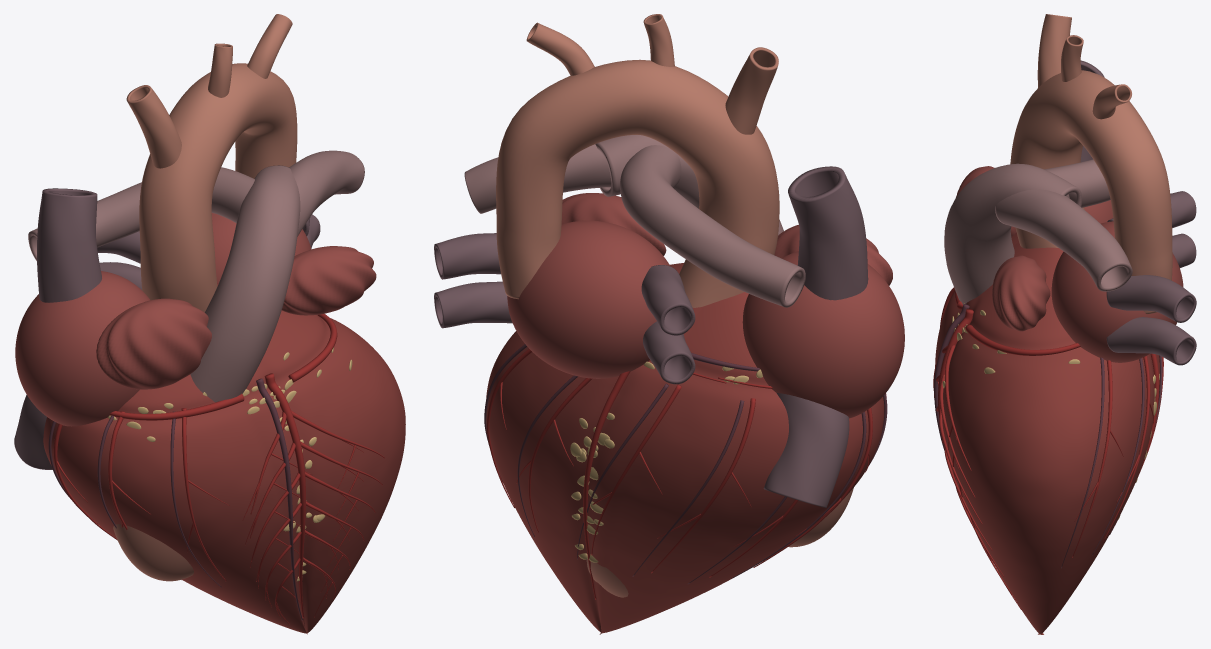
The model's file is heart-detail-raw.glb.
3 renders of one model, left to right at view 1: azimuth 30°, elevation 25°; view 2: azimuth 150°, elevation 25°; view 3: azimuth 270°, elevation 25°, orthographic. The views are drawn at different scales.
Parts seen in each view (by area): view 1: Ventricular_epicardium, aorta, pulmonary_trunk, Right_atrium, Right_auricular_appendage, superior_vena_cava, Left_auricular_appendage, right_pulmonary_artery, left_pulmonary_artery, brachiocephalic, Endocardium_right_ventricle, inferior_vena_cava (+10 smaller); view 2: Ventricular_epicardium, aorta, Left_atrium, Right_atrium, right_pulmonary_artery, superior_vena_cava, inferior_vena_cava, left_pulmonary_artery, pulmonary_vein_1_0, brachiocephalic, pulmonary_vein_-1_1, pulmonary_vein_1_1 (+11 smaller); view 3: Ventricular_epicardium, aorta, pulmonary_trunk, left_pulmonary_artery, Left_atrium, Left_auricular_appendage, pulmonary_vein_1_0, pulmonary_vein_1_1, brachiocephalic, right_pulmonary_artery, left_subclavian, left_common_carotid (+13 smaller).
Part boxes in pixels (box(x1,y1,x2,y2)): Ventricular_epicardium: box(43, 283, 405, 634); aorta: box(139, 63, 297, 312); pulmonary_trunk: box(190, 165, 300, 402); Right_atrium: box(15, 271, 150, 426); Right_auricular_appendage: box(96, 298, 211, 389); superior_vena_cava: box(37, 188, 101, 302); Left_auricular_appendage: box(282, 246, 376, 315); right_pulmonary_artery: box(28, 167, 254, 260); left_pulmonary_artery: box(289, 150, 364, 236); brachiocephalic: box(126, 85, 181, 168); Endocardium_right_ventricle: box(113, 524, 193, 581); inferior_vena_cava: box(14, 395, 52, 469); Ventricular_epicardium: box(486, 263, 884, 634); aorta: box(496, 59, 779, 307); Left_atrium: box(507, 220, 669, 378); Right_atrium: box(742, 251, 904, 418); right_pulmonary_artery: box(620, 145, 805, 307); superior_vena_cava: box(788, 166, 868, 300); inferior_vena_cava: box(763, 393, 849, 507); left_pulmonary_artery: box(464, 144, 611, 213); pulmonary_vein_1_0: box(434, 281, 512, 328); brachiocephalic: box(725, 47, 778, 134); pulmonary_vein_-1_1: box(641, 265, 695, 335); pulmonary_vein_1_1: box(434, 233, 500, 279); Ventricular_epicardium: box(935, 232, 1159, 634); aorta: box(1010, 70, 1172, 314); pulmonary_trunk: box(944, 163, 1081, 304); left_pulmonary_artery: box(995, 189, 1132, 291); Left_atrium: box(1051, 221, 1183, 362); Left_auricular_appendage: box(992, 255, 1050, 331); pulmonary_vein_1_0: box(1106, 317, 1196, 365); pulmonary_vein_1_1: box(1106, 275, 1196, 322); brachiocephalic: box(1037, 14, 1071, 87); right_pulmonary_artery: box(1044, 159, 1110, 207); left_subclavian: box(1092, 84, 1131, 119); left_common_carotid: box(1061, 35, 1083, 81).
Size of the model in its own units: 1.39 by 2.13 by 0.8972.
